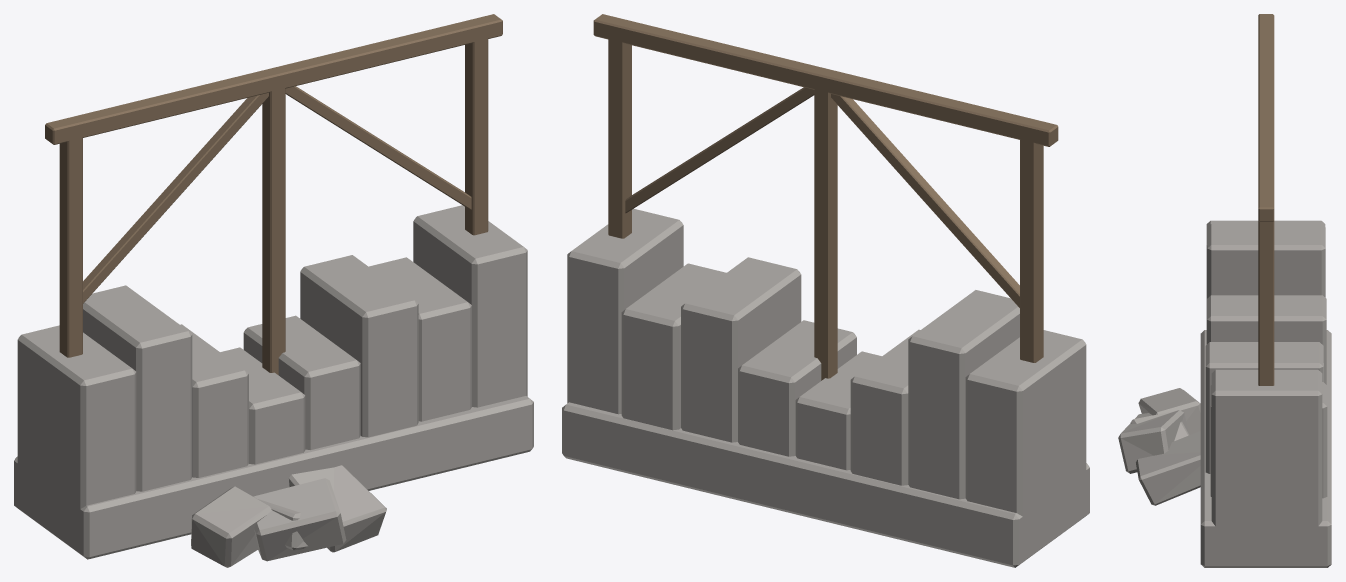
The model's file is wall_works.glb.
The picture shows the model from 3 angles, left to right: view 1: azimuth 30°, elevation 25°; view 2: azimuth 150°, elevation 25°; view 3: azimuth 270°, elevation 25°; orthographic projection. The views are drawn at different scales.
Visible parts, largest first — view 1: stone, wood; view 2: stone, wood; view 3: stone, wood.
Part boxes in pixels (x1=…): stone: x1=14, y1=205, x2=533, y2=567; wood: x1=45, y1=14, x2=502, y2=374; stone: x1=562, y1=208, x2=1089, y2=567; wood: x1=593, y1=14, x2=1058, y2=380; stone: x1=1118, y1=220, x2=1331, y2=567; wood: x1=1258, y1=14, x2=1274, y2=385.
Bounding box in the file's own units: 4 × 3.65 × 1.86.
